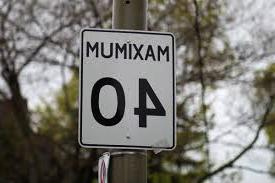speed limit sign: (78, 30, 177, 150)
